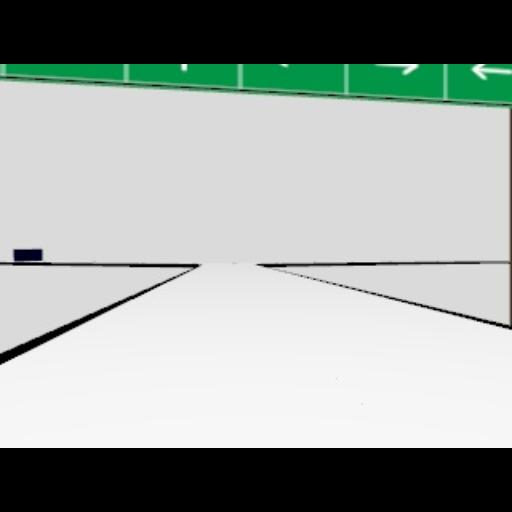Left: (467, 64, 512, 80)
Right: (369, 64, 423, 74)
